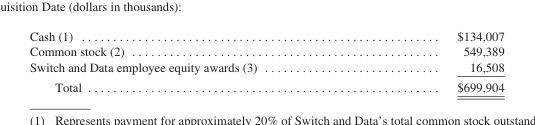table: (28, 28, 503, 93)
table column: (28, 28, 356, 93), (356, 28, 503, 93)
table row: (28, 58, 503, 76), (28, 76, 503, 93), (28, 28, 503, 43), (28, 43, 503, 58)
